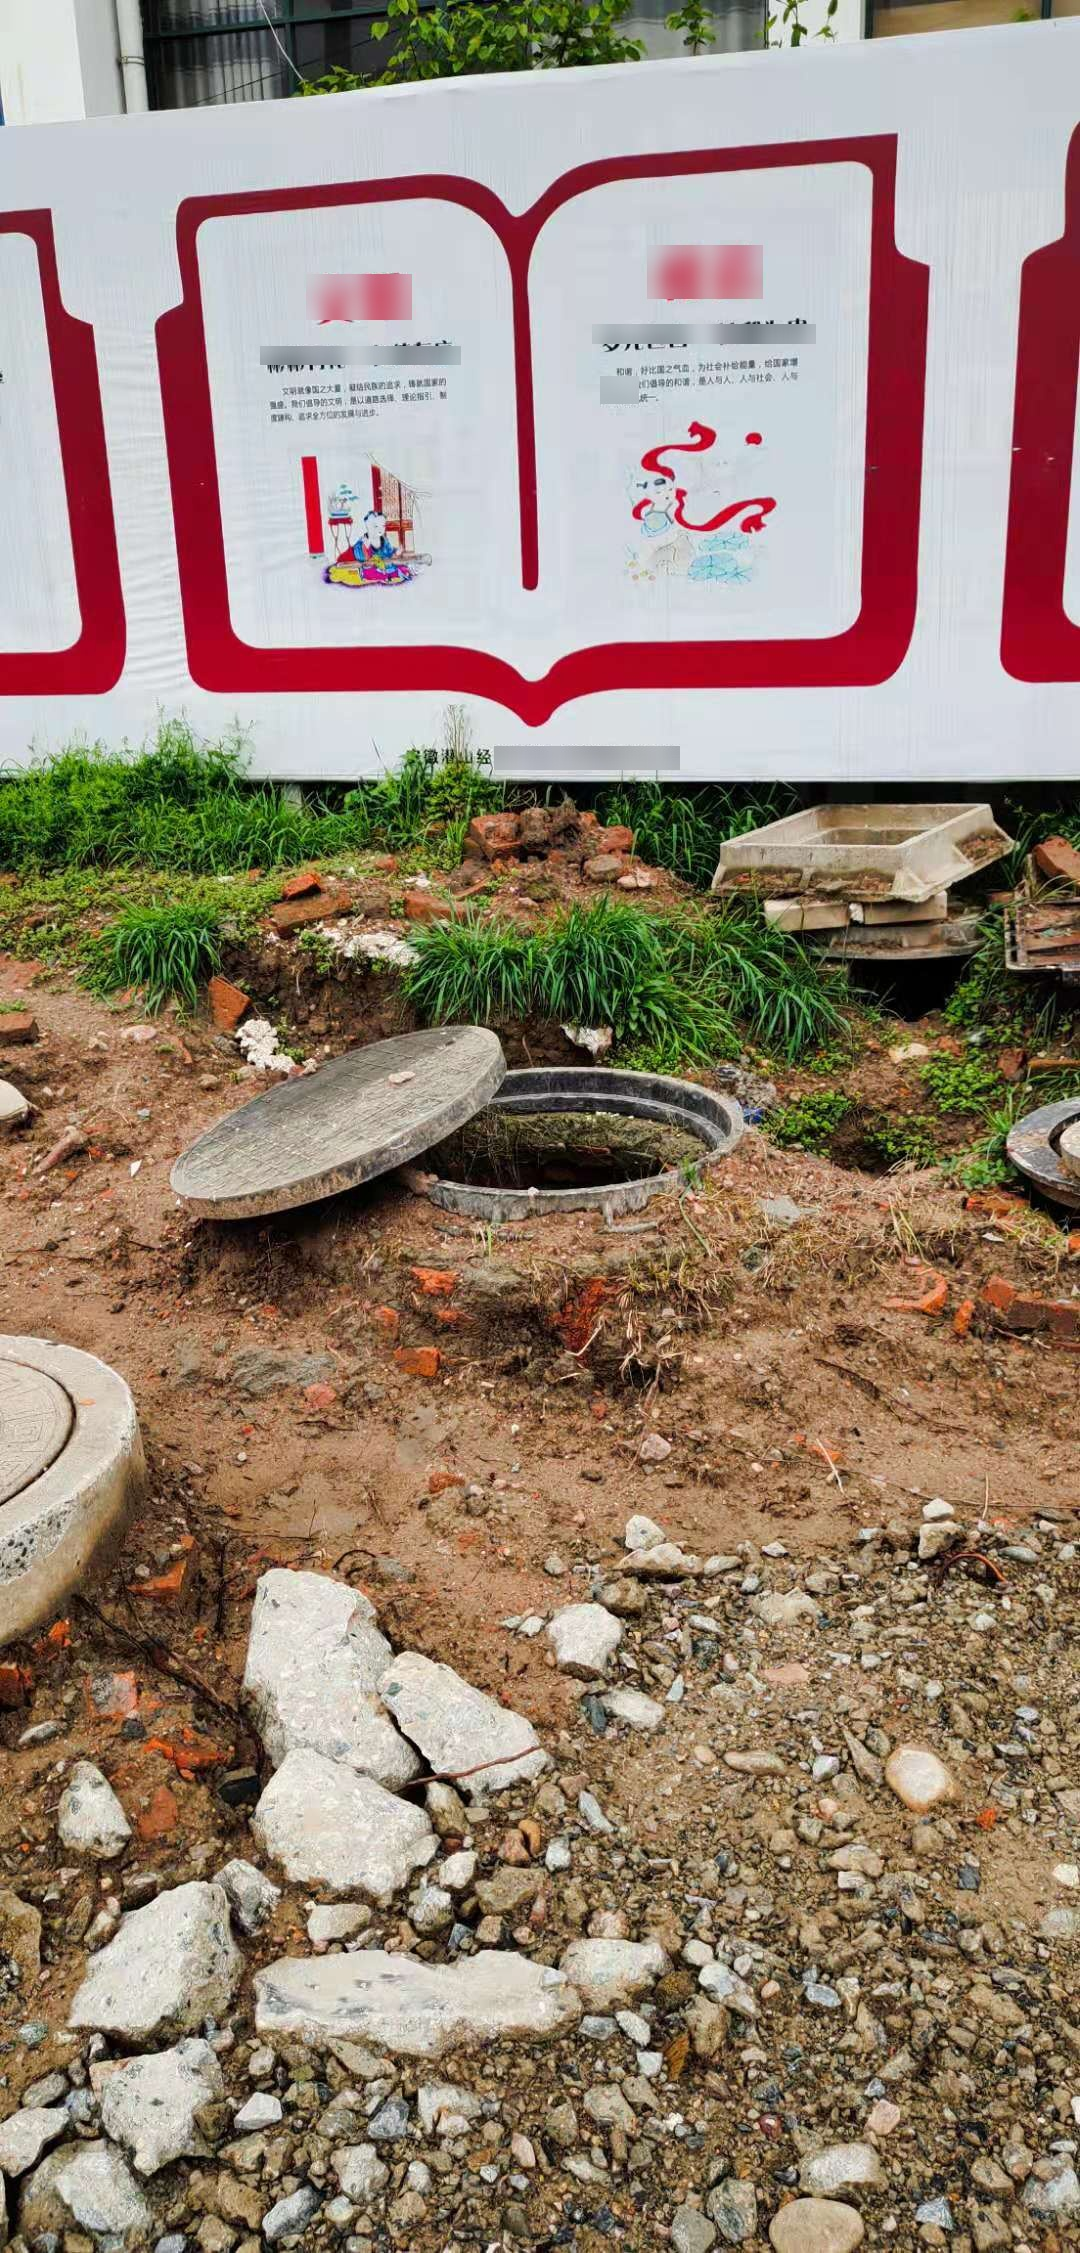well: (158, 1027, 758, 1224)
